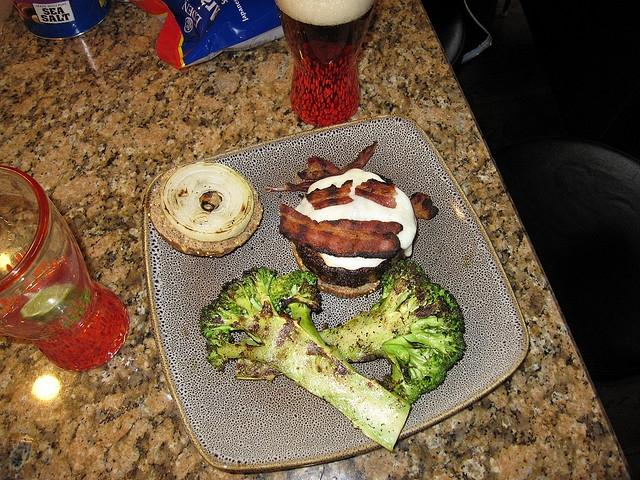broccoli: (200, 266, 412, 452), (319, 259, 468, 405)
